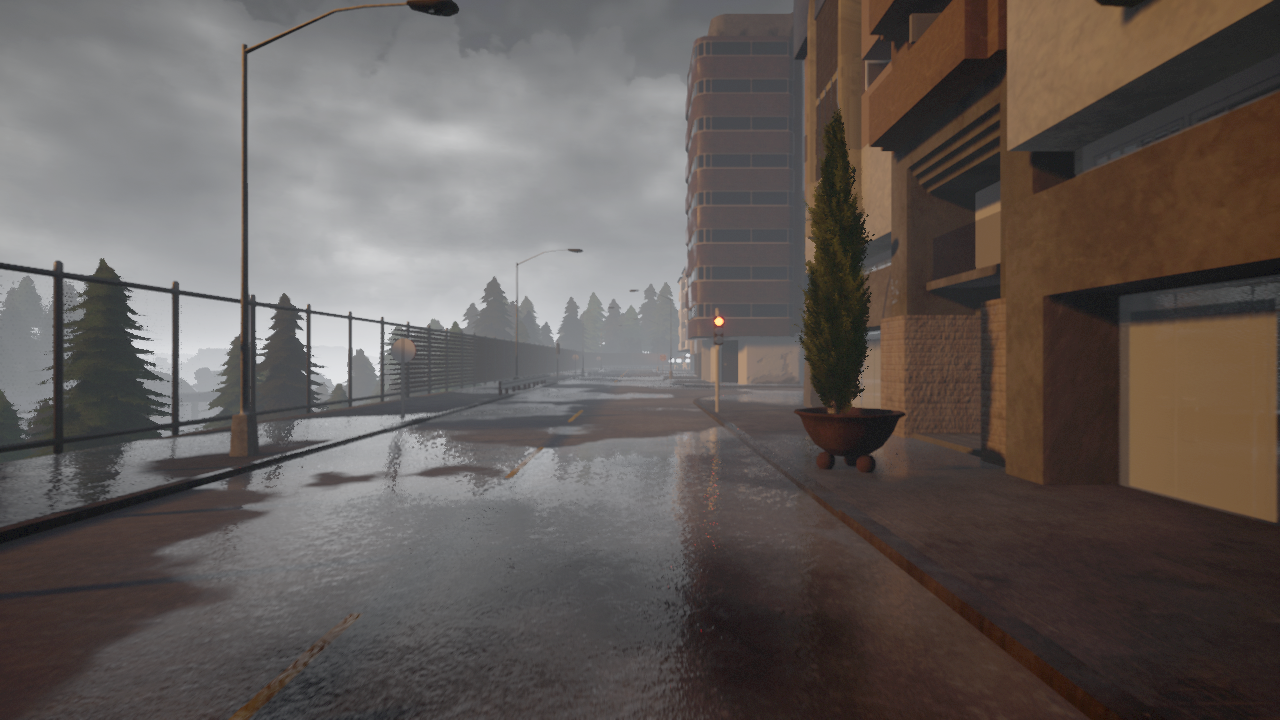red: (714, 314, 725, 346)
